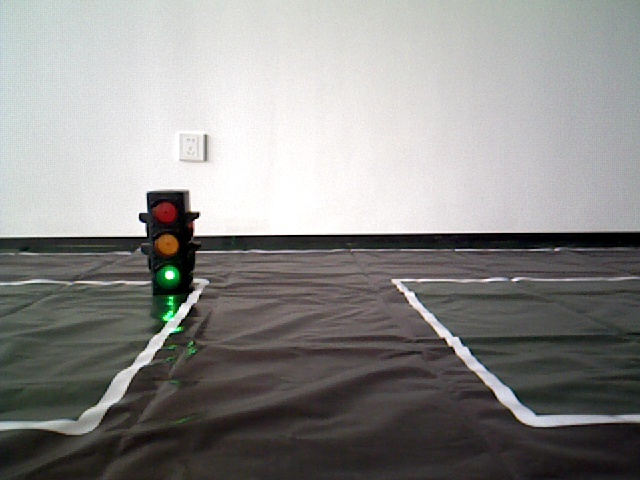green: (150, 191, 188, 289)
